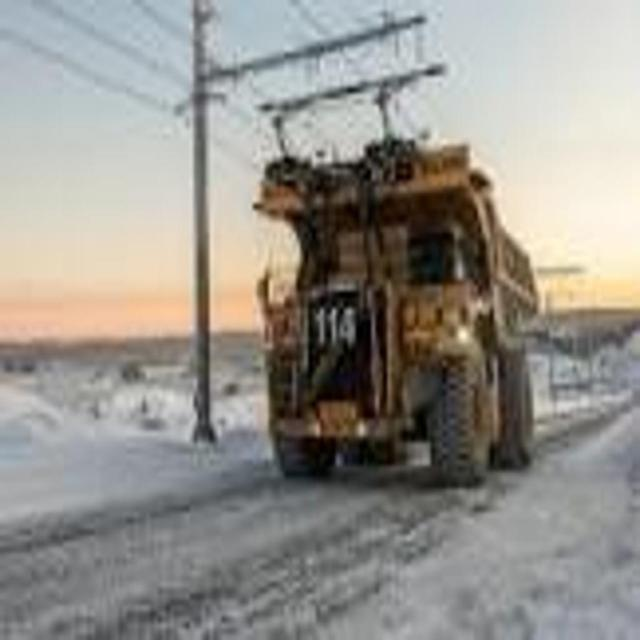dump_truck: (252, 135, 540, 489)
